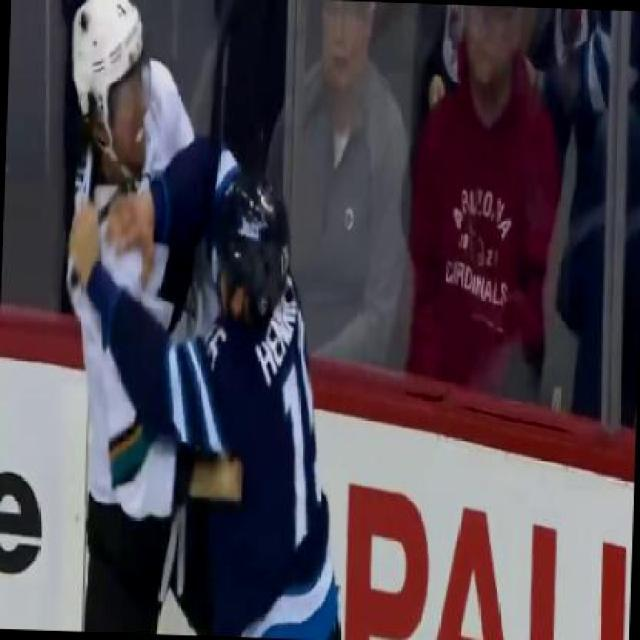fight: (48, 0, 350, 640)
